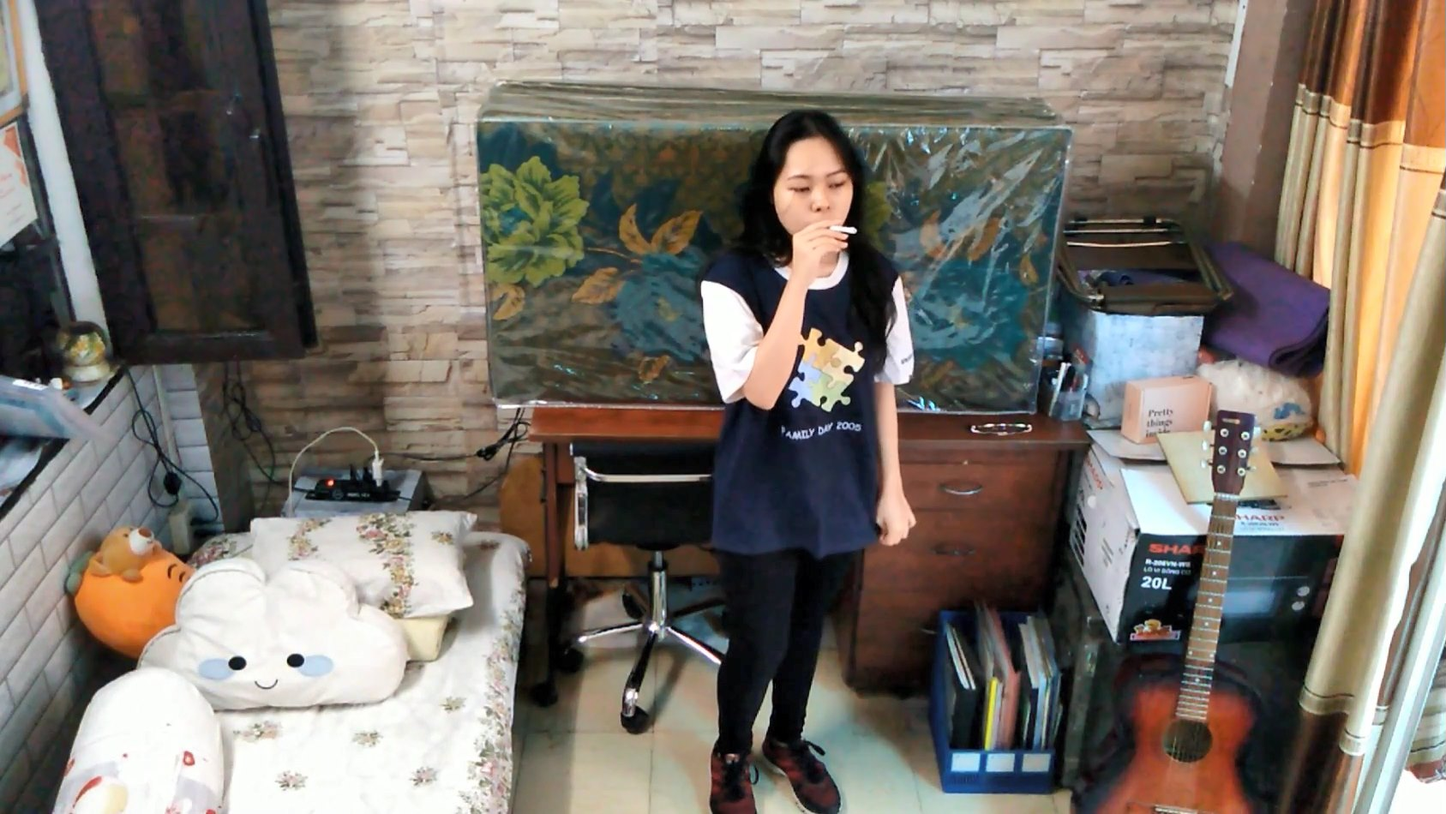cigarette: (824, 212, 865, 238)
person: (671, 96, 936, 814)
